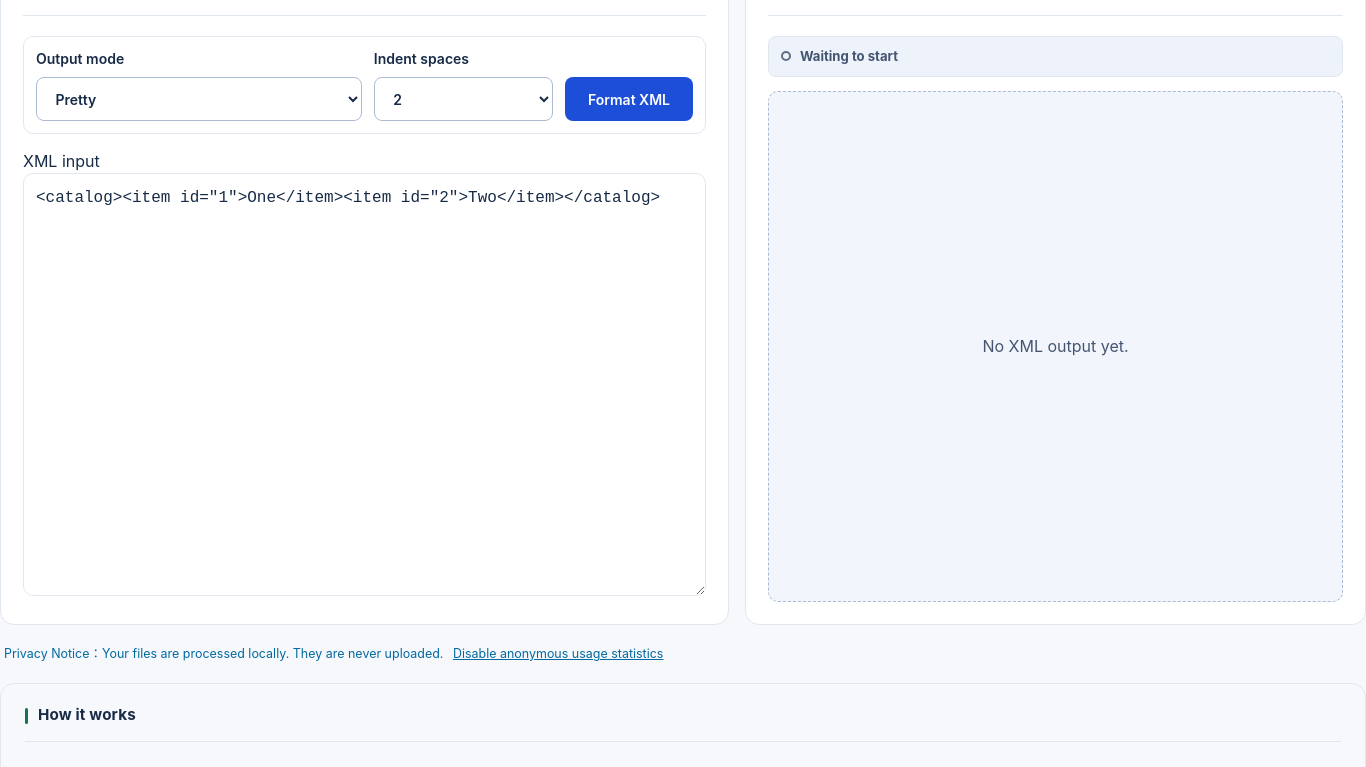
Test: XmlFormatterPage › formats and minifies XML with explicit actions
The width and height of the screenshot is (1366, 767).
(page scrolled)
Replace the text in the text box labelled "XML input" with "<root><item>One</item></root>" at x=364, y=385, box [23,173,706,596]
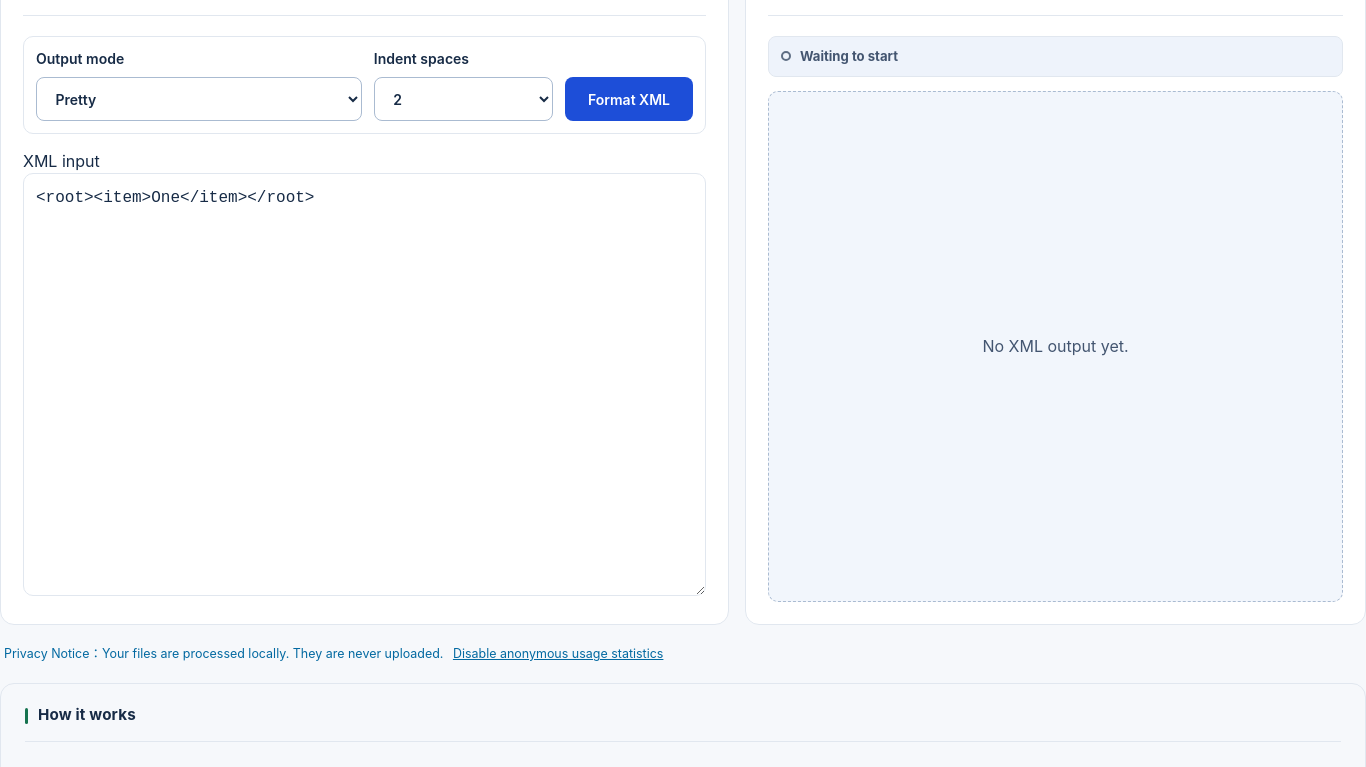
Select "Minify" in the dropdown labelled "Output mode" at x=199, y=99, box [36,77,362,121]
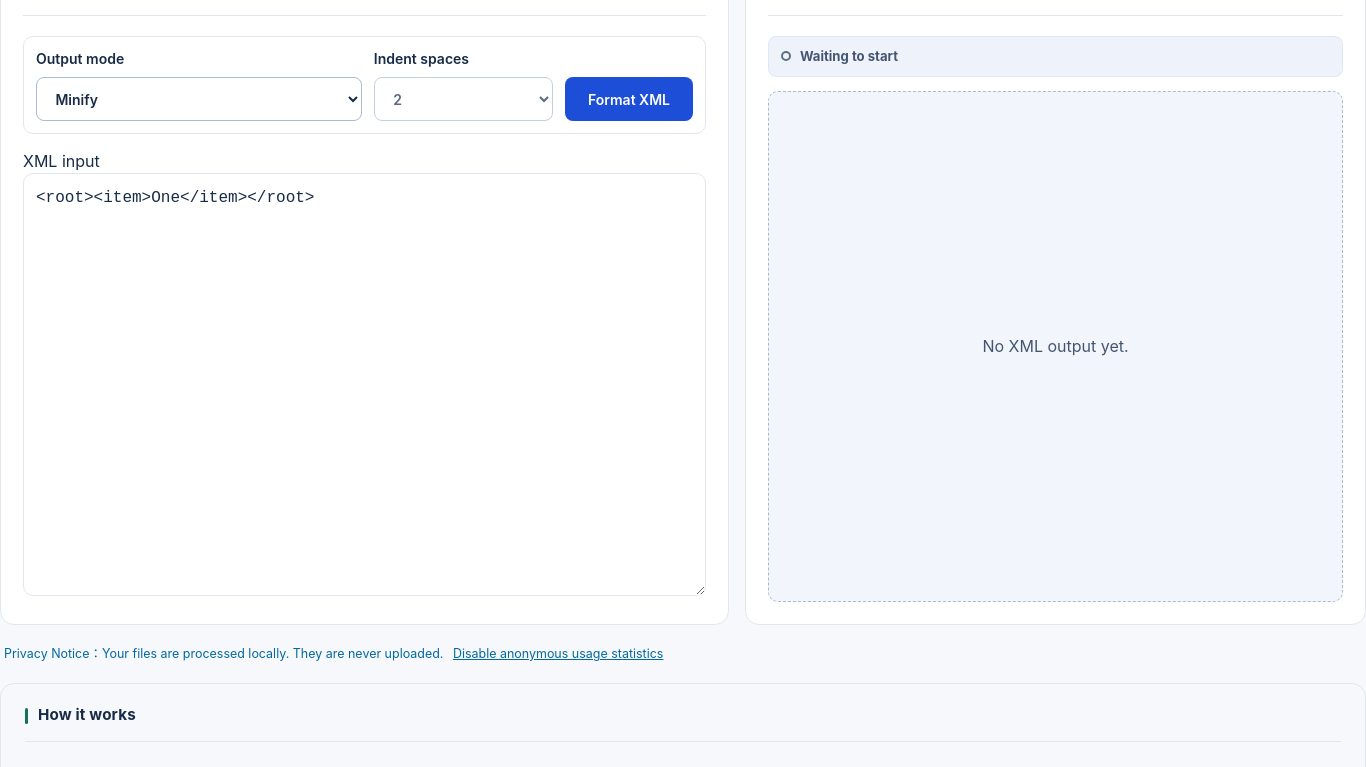
Click the button "Format XML" at x=629, y=99, box [565,77,693,121]
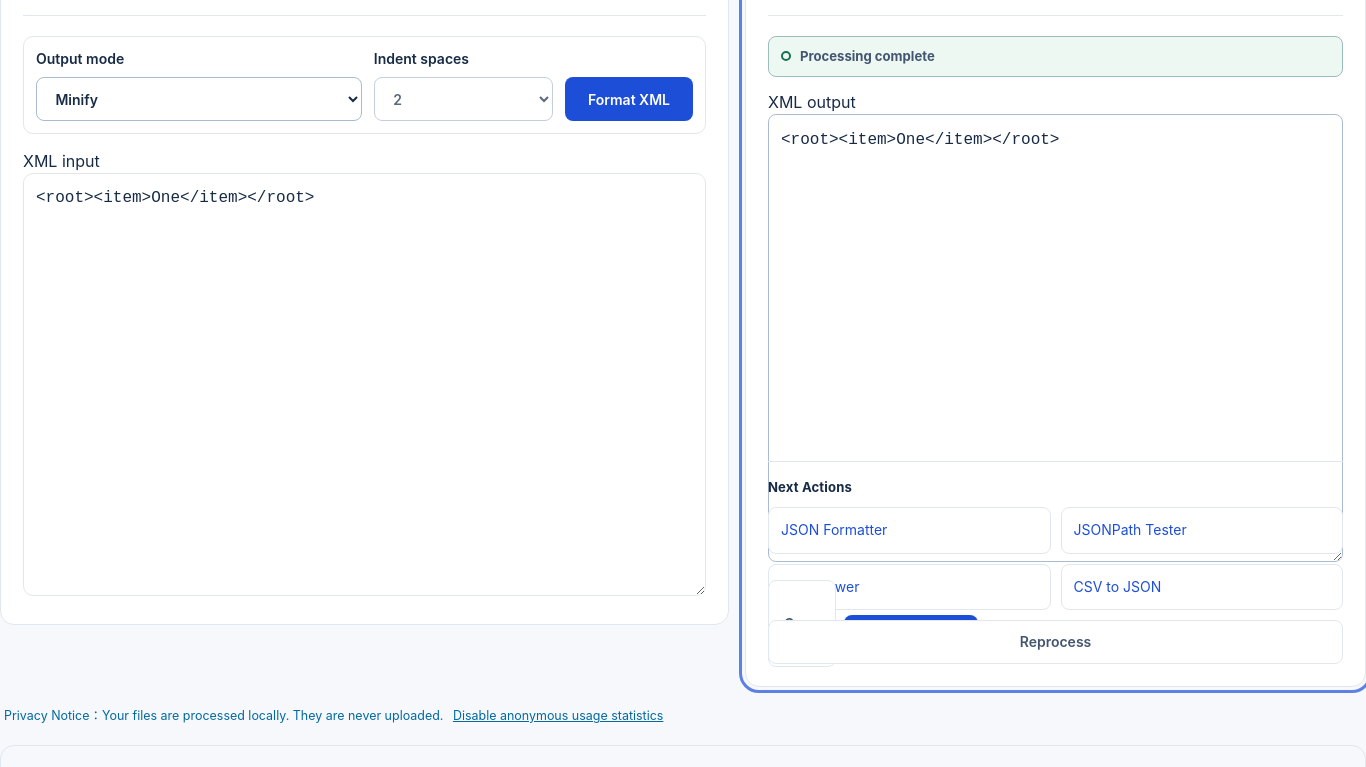
Check: the text box labelled "XML output" holds "<root><item>One</item></root>", box [768,114,1343,562]
